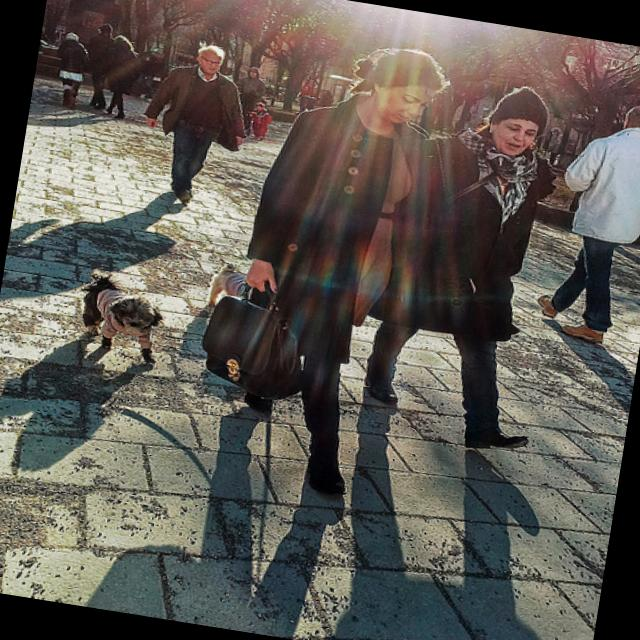Vehicle: (39, 34, 50, 50)
